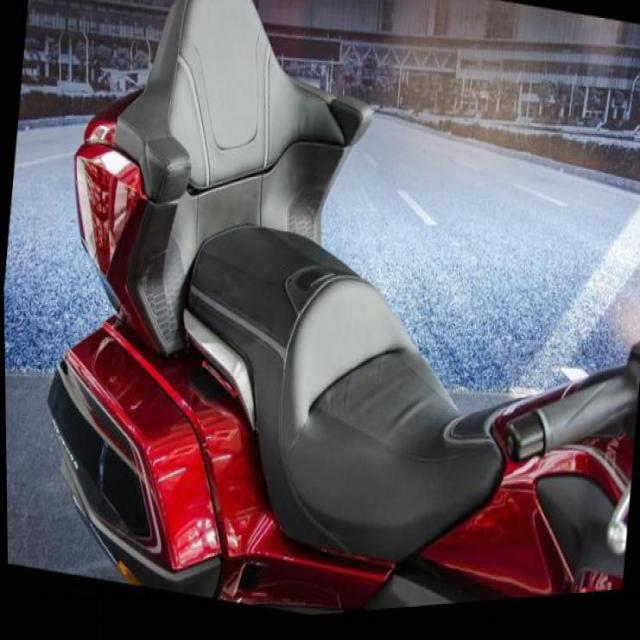Gold Wing: (23, 0, 639, 637)
